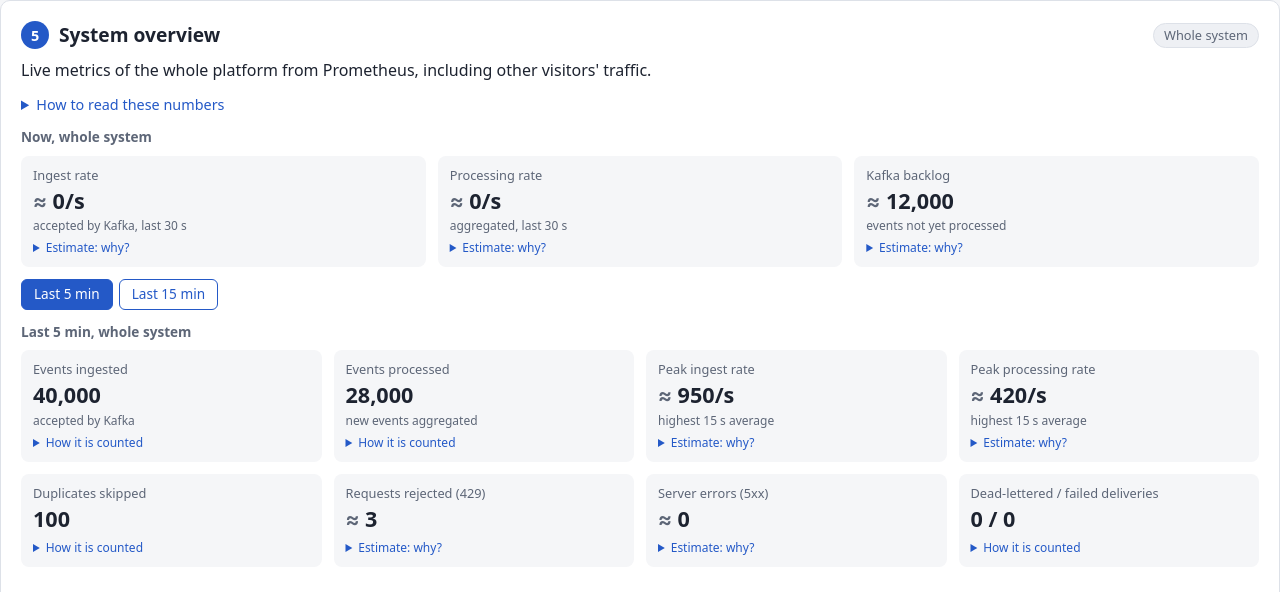
OverviewSection › labels every figure and chart as system-wide and switches the chart window
Check: the heading "Now, whole system" is shown, box [21,127,152,146]
Check: the heading "Last 5 min, whole system" is shown, box [21,322,192,341]
Click the button "Last 15 min" at (168, 295), box [119,279,218,310]
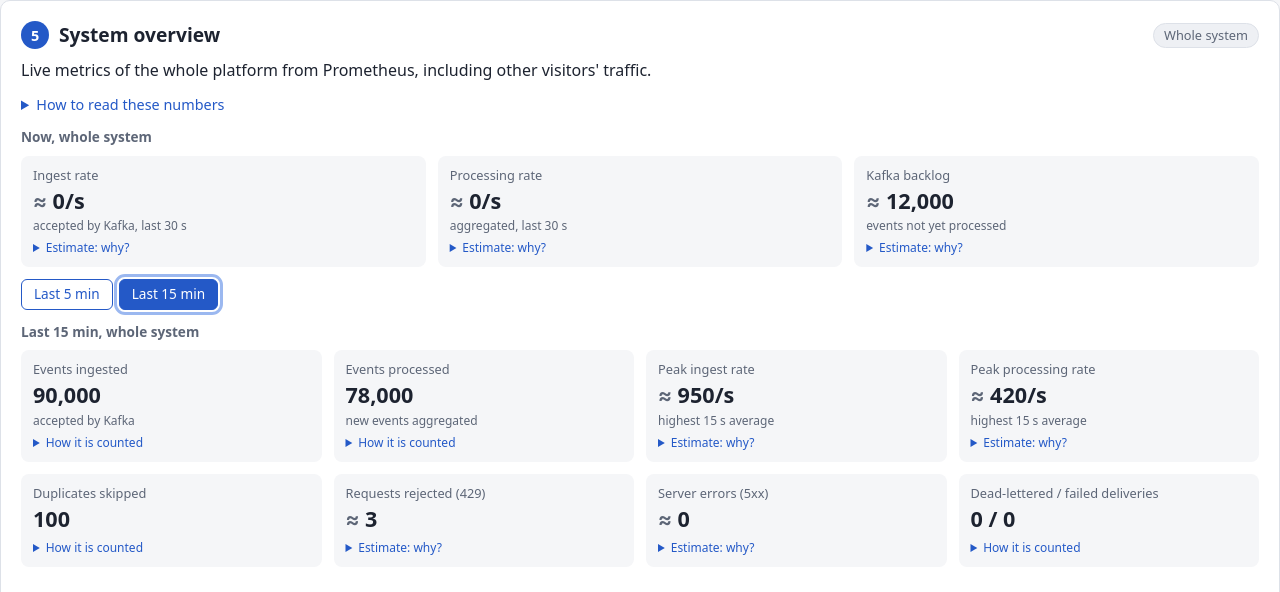
Check: the heading "Last 15 min, whole system" is shown, box [21,322,199,341]
